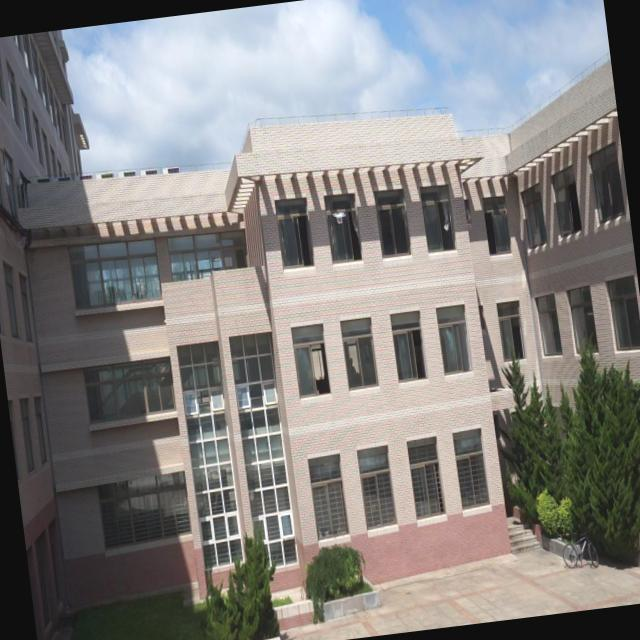drone: (328, 205, 349, 226)
